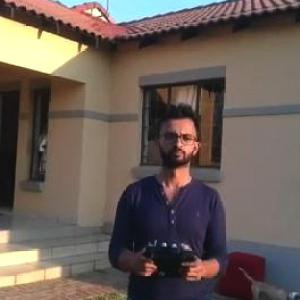follow: (105, 100, 230, 299)
null: (232, 264, 299, 298)
